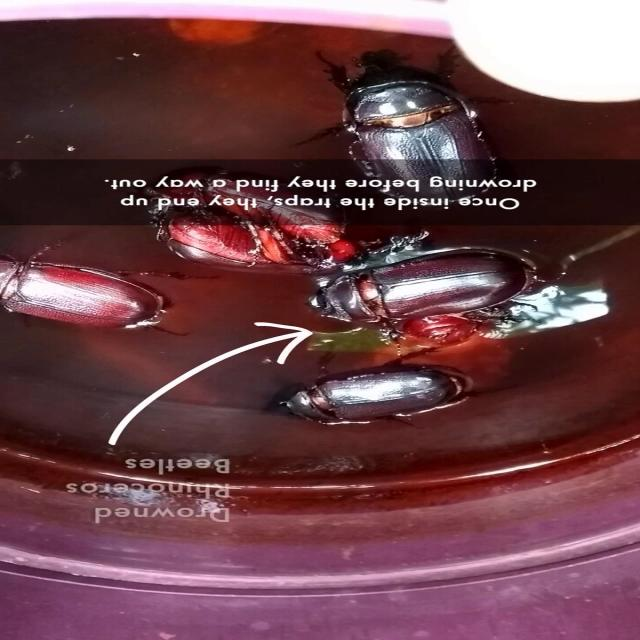Rhino-beetle: (228, 350, 528, 430), (294, 245, 558, 332), (298, 61, 489, 160), (0, 256, 174, 341), (159, 221, 287, 281)
